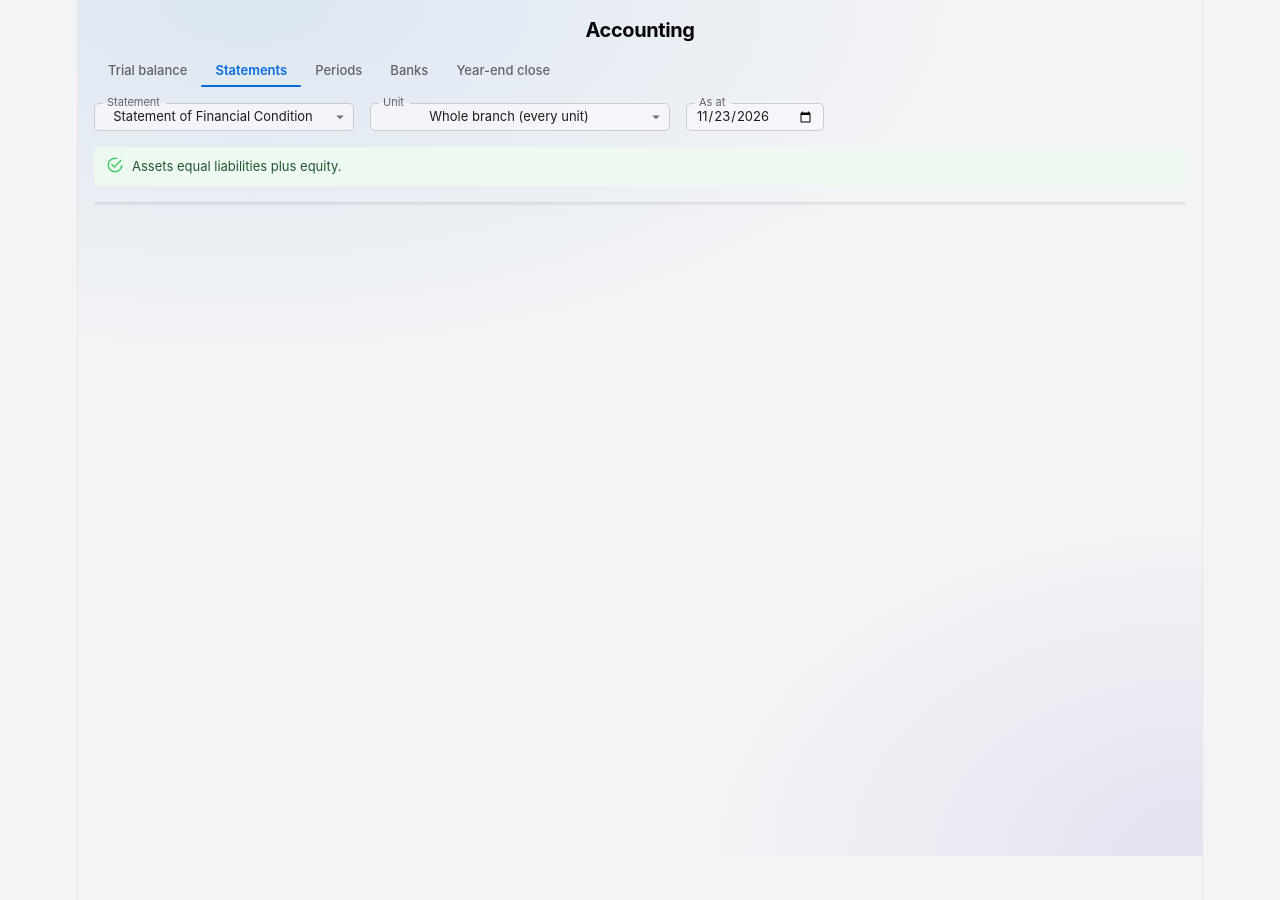
Statements by unit › makes a statement for a consolidation, then shows each unit side by side with the consolidated total
The image size is (1280, 900).
Step 1. Click the dropdown labelled "Statement of Financial Condition" → (213, 116), box [113, 108, 313, 124]
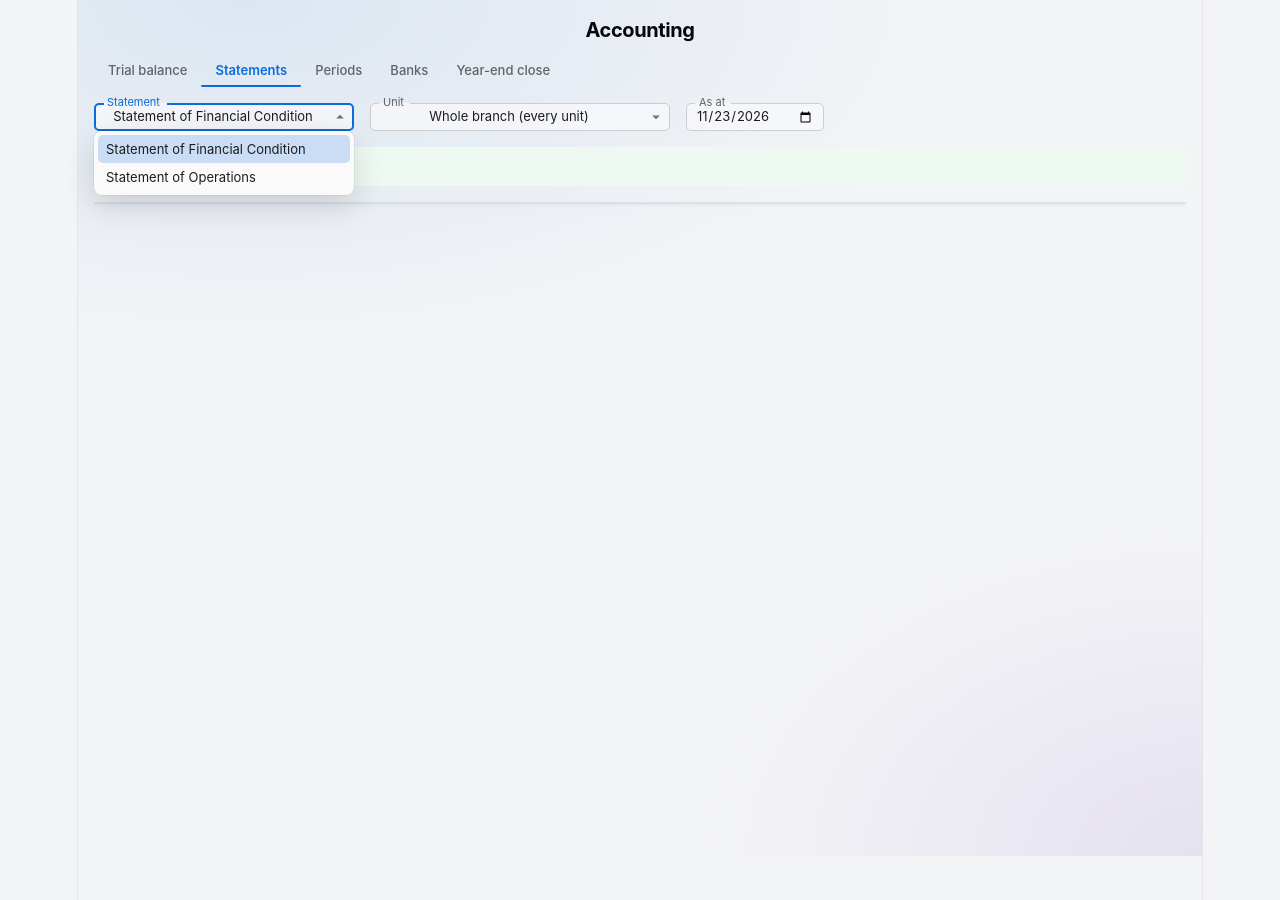
Step 2. Click the option "Statement of Operations" → (181, 177), box [106, 169, 256, 185]
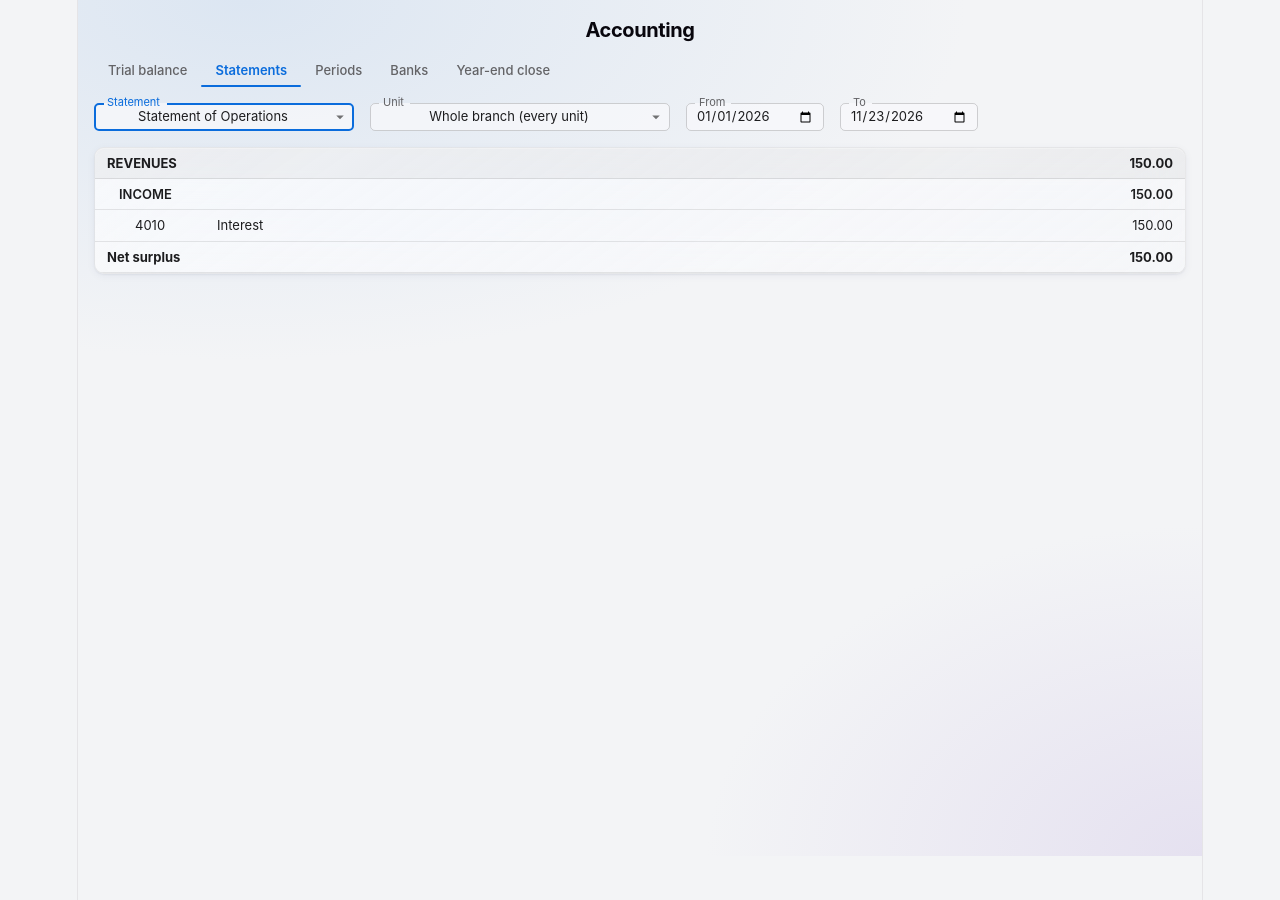
Step 3. Click the dropdown labelled "Whole branch (every unit)" → (509, 116), box [429, 108, 589, 124]
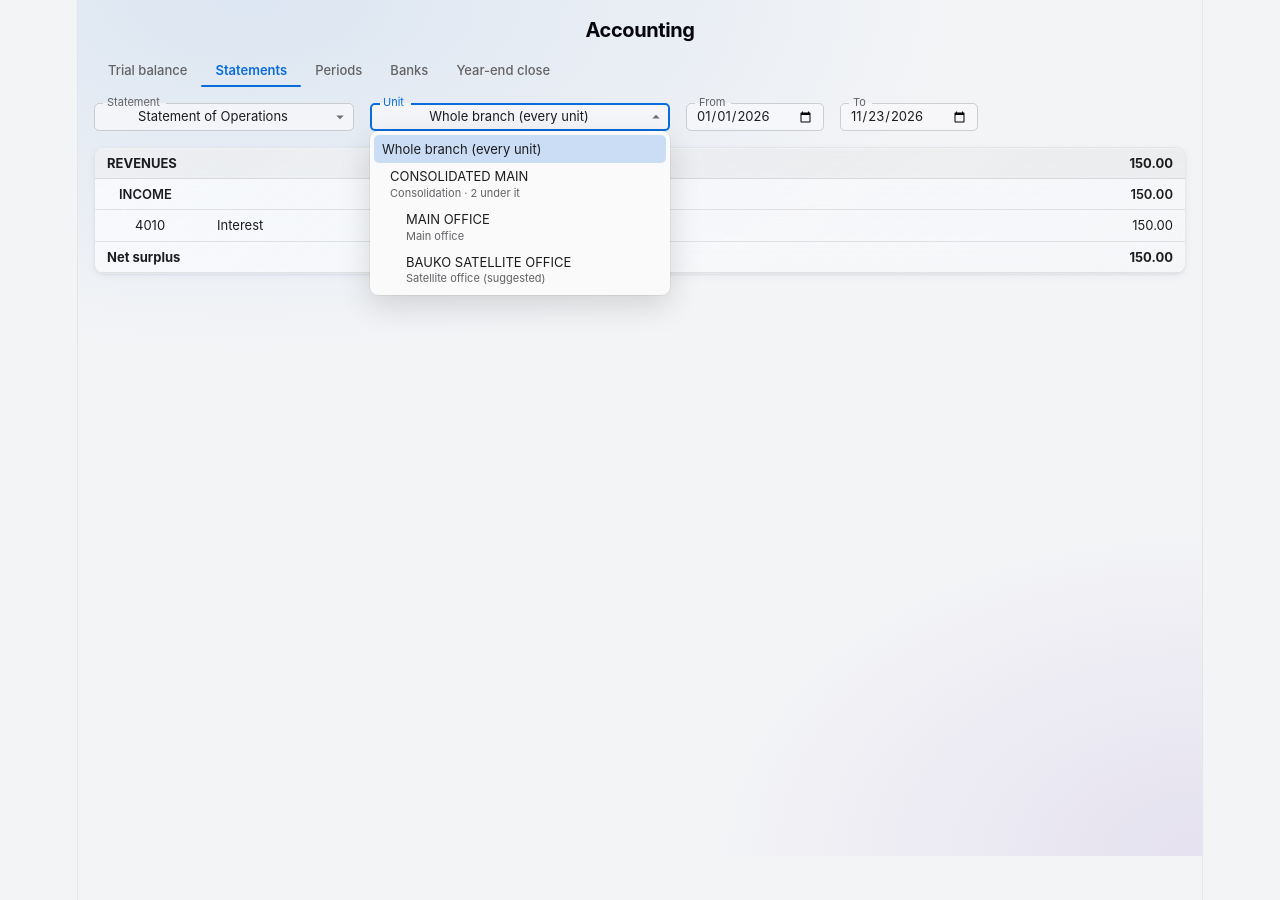
Check: the text "Satellite office (suggested)" is shown, box [406, 271, 546, 285]
Step 4. Click the text "CONSOLIDATED MAIN" → (459, 176), box [390, 167, 528, 186]
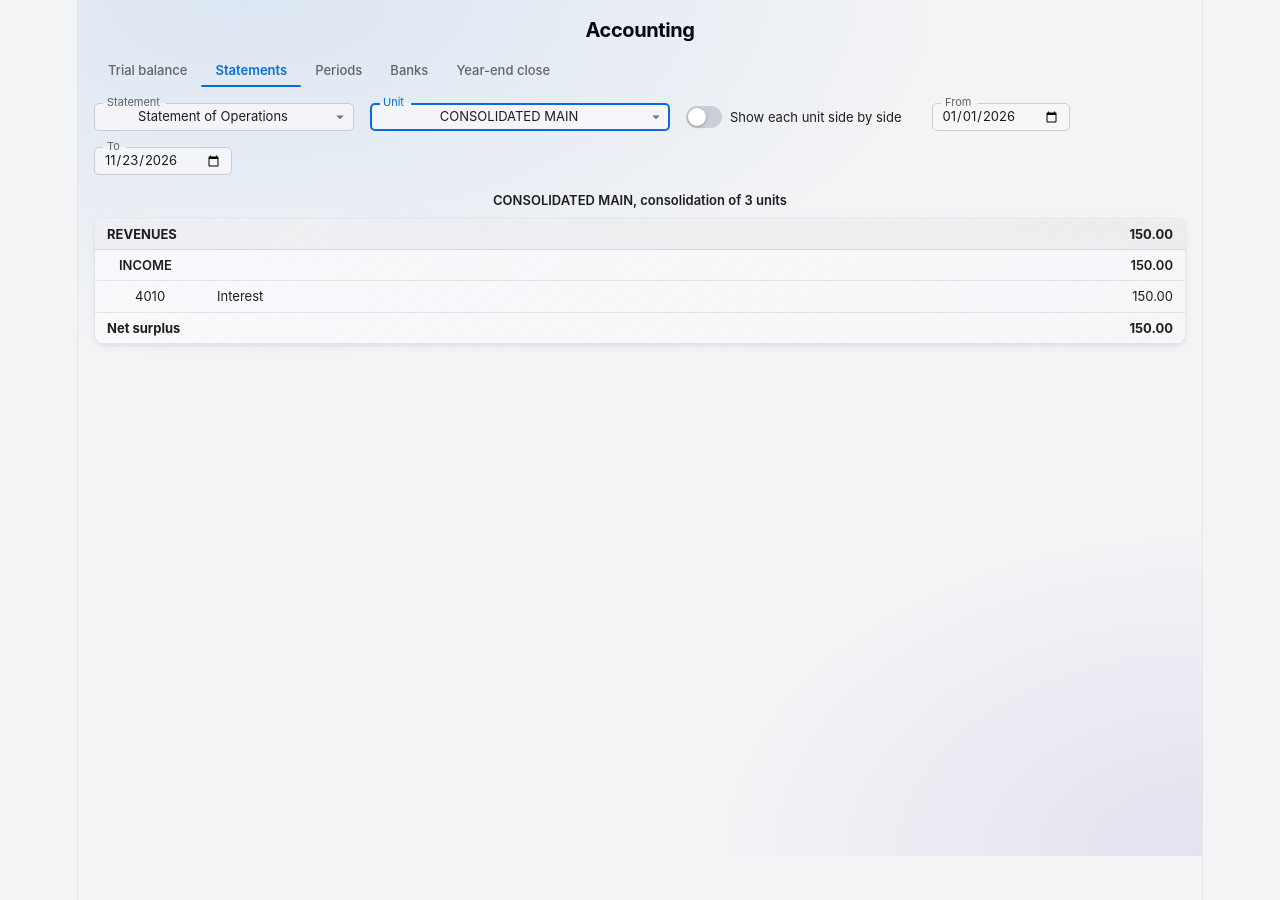
Check: the text "CONSOLIDATED MAIN, consolidation of 3 units" is shown, box [493, 192, 787, 208]
Step 5. Click the switch labelled "Show each unit side by side" → (791, 117), box [680, 106, 902, 128]
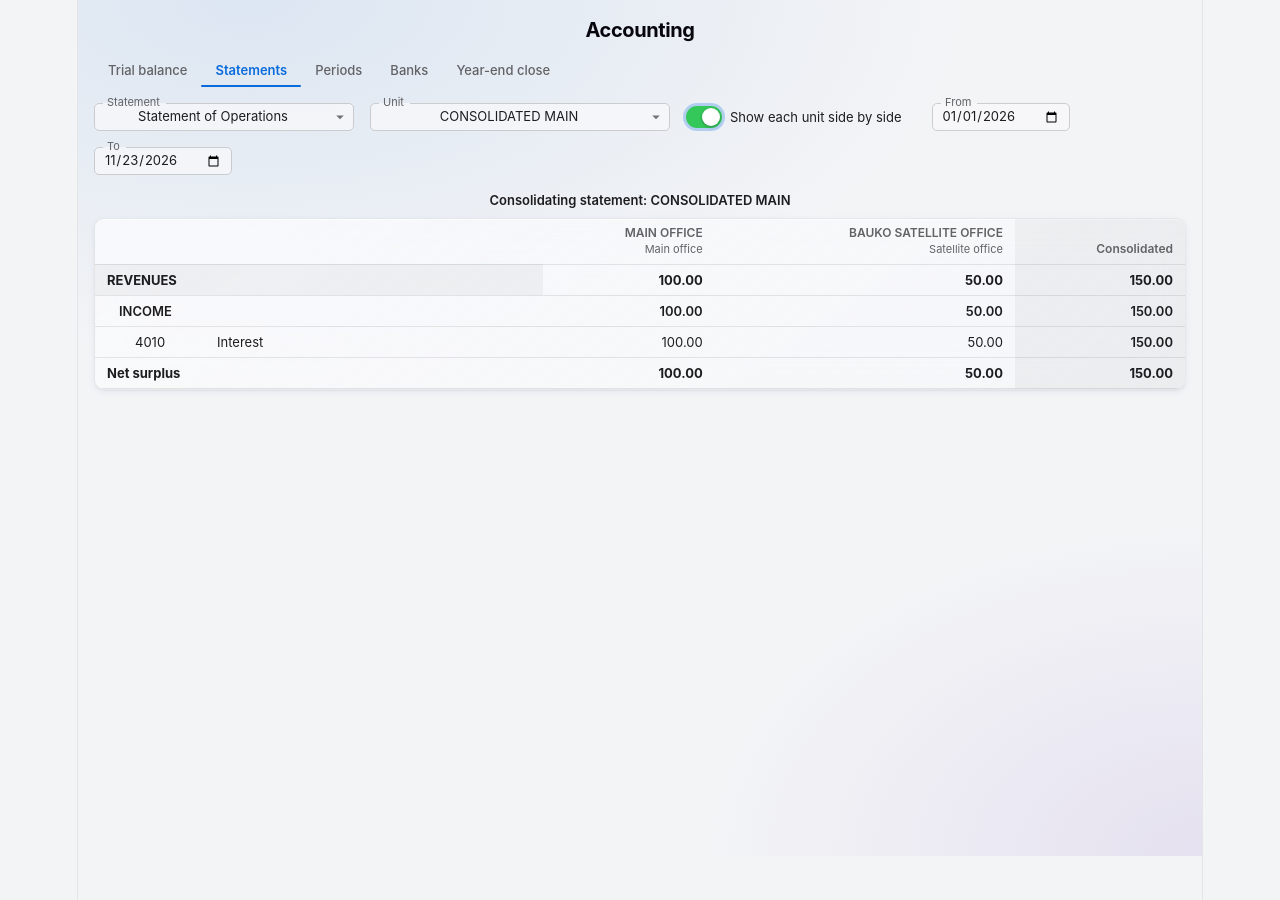
Check: the text "BAUKO SATELLITE OFFICE" is shown, box [849, 225, 1003, 240]
Check: the column heading "Consolidated" is shown, box [1015, 219, 1185, 264]
Check: the text "Net surplus" shows "100.00", box [658, 365, 703, 381]
